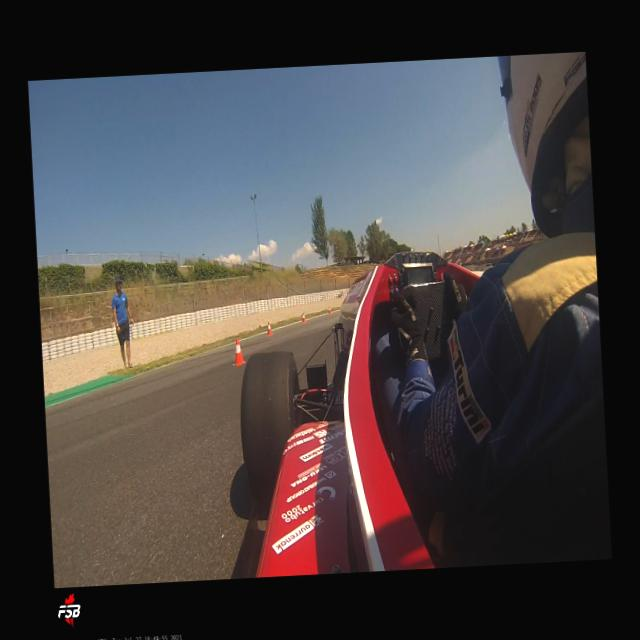orange_cone: (232, 338, 246, 367), (267, 322, 273, 336), (302, 312, 306, 322), (328, 306, 331, 314)
